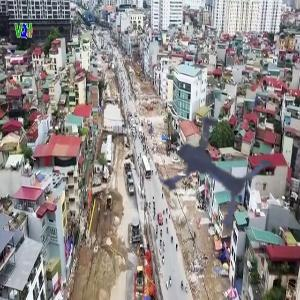drone: (134, 95, 275, 236)
